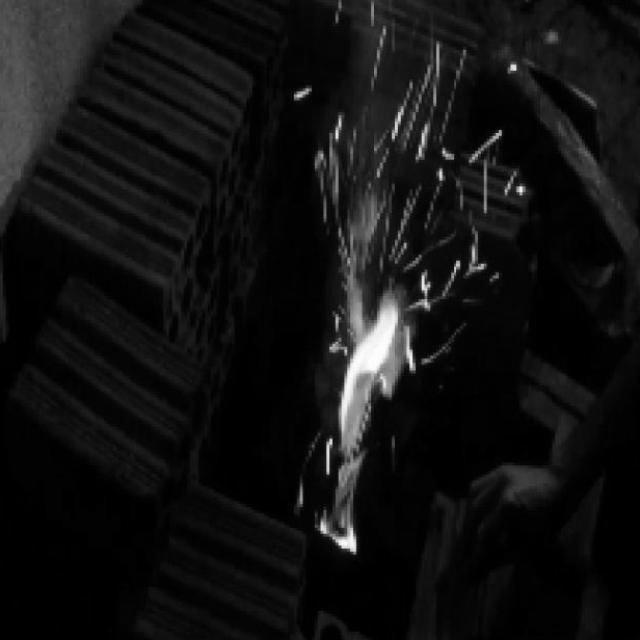smoke: (314, 292, 407, 558)
